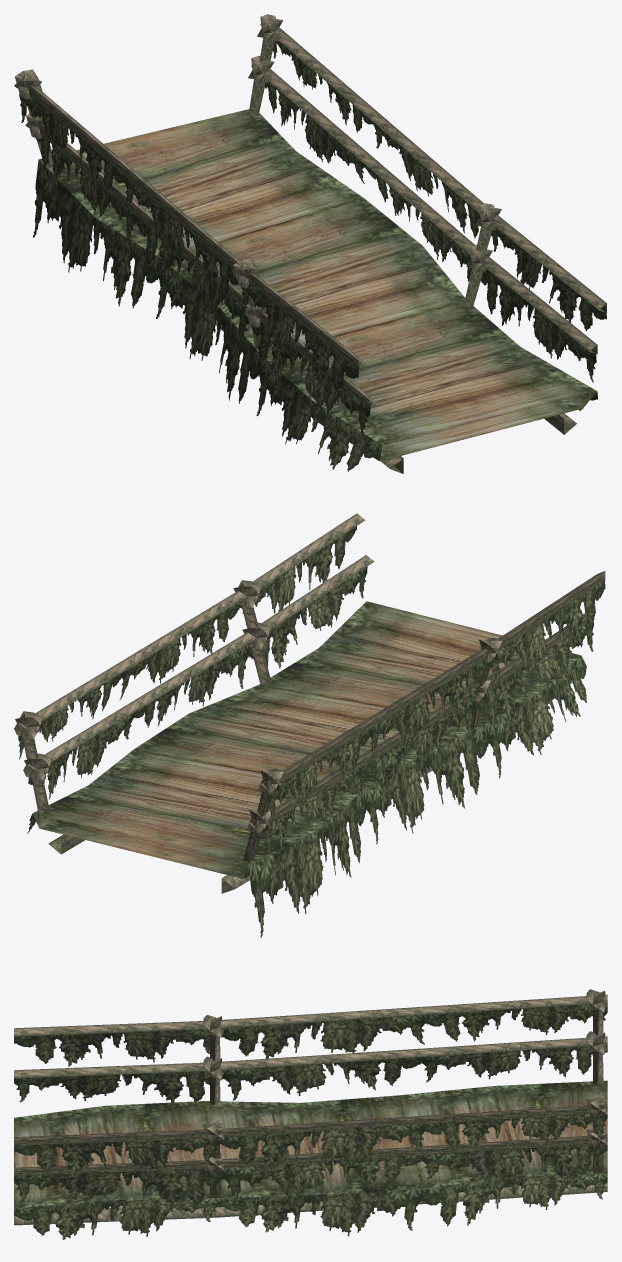
The model's file is C1SMBRIDGEROPEB.obj.
3 views of the same model, one above another, from view 1: azimuth 30°, elevation 25°; view 2: azimuth 150°, elevation 25°; view 3: azimuth 270°, elevation 25° (orthographic). The views are drawn at different scales.
Visible parts, largest first — view 1: Node 0; view 2: Node 0; view 3: Node 0.
Boxes of the visible parts, x1=… form: Node 0: x1=14, y1=14, x2=606, y2=473; Node 0: x1=14, y1=513, x2=605, y2=937; Node 0: x1=14, y1=989, x2=607, y2=1239.
Bounding box in the file's own units: 9.22 × 6.46 × 20.41.
Materials: 3 (3 with a texture image).
